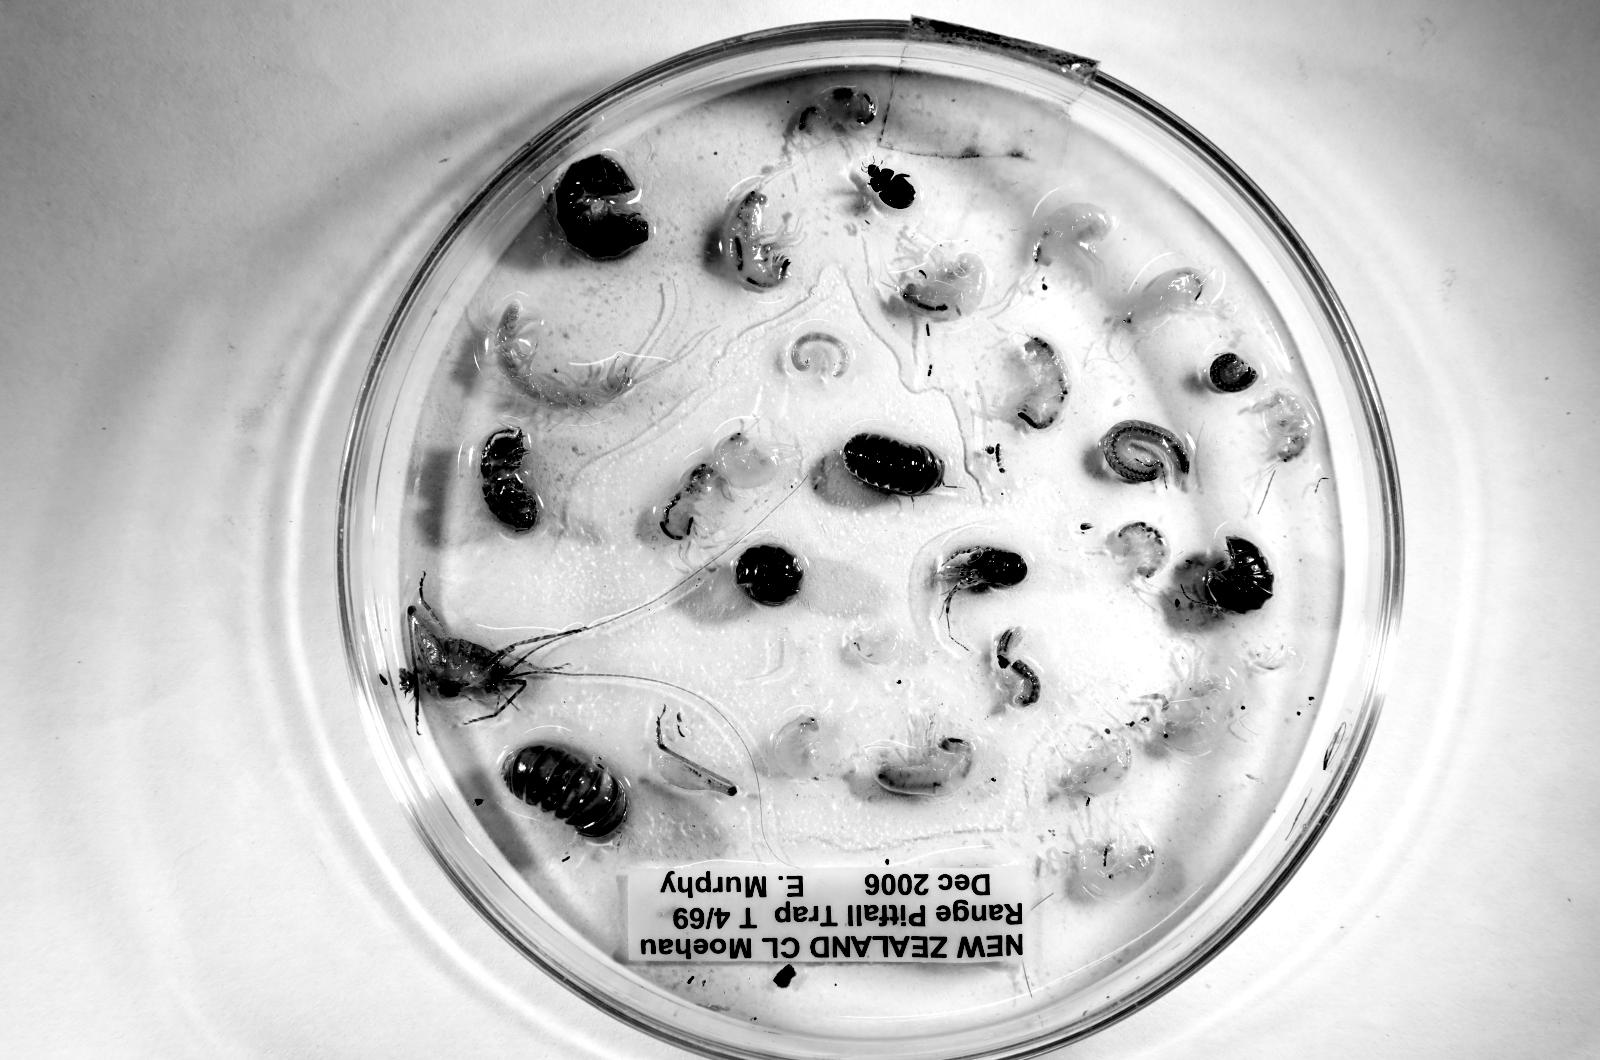amphipoda: (1140, 640, 1235, 752), (863, 710, 977, 796), (718, 187, 802, 290), (899, 246, 987, 321), (1122, 267, 1210, 335), (1032, 202, 1113, 276), (1074, 827, 1157, 897), (1016, 336, 1069, 428), (713, 431, 795, 489), (1250, 389, 1313, 463), (660, 463, 718, 539), (1065, 735, 1132, 797), (1107, 522, 1171, 580), (797, 88, 875, 135), (771, 715, 821, 778)
chilopoda: (480, 299, 672, 411)
coleoptera: (867, 163, 915, 209)
diplopoda: (1100, 420, 1190, 485), (789, 331, 851, 377), (1209, 353, 1258, 393)
isopoda: (501, 743, 628, 838), (553, 155, 650, 258), (842, 432, 944, 496), (480, 428, 540, 530), (1204, 536, 1274, 612), (736, 544, 802, 606)
opiliones: (935, 547, 1028, 615)
orthoptera: (408, 577, 566, 724)
